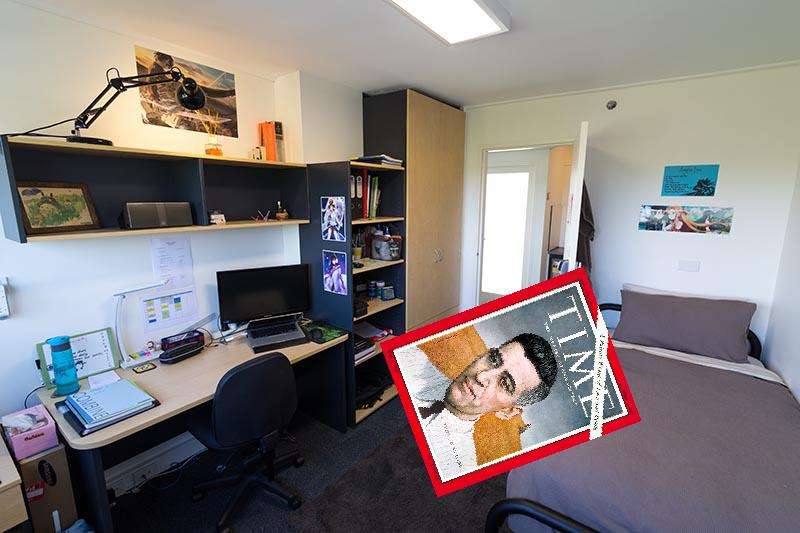times: (378, 259, 642, 502)
